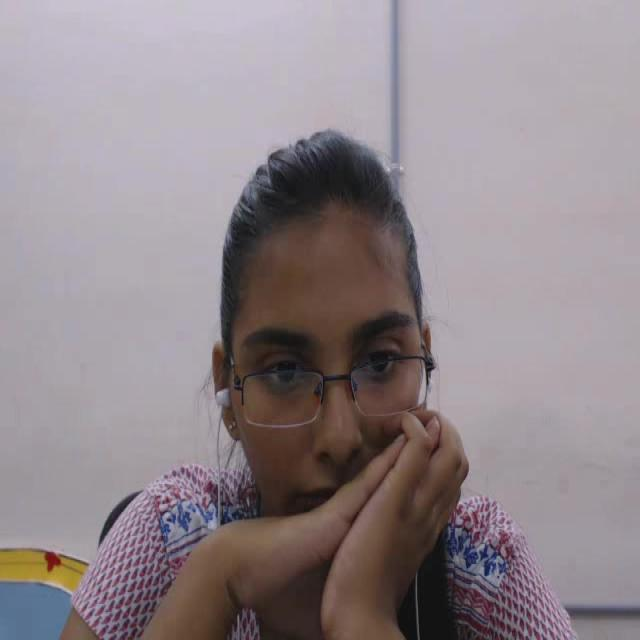Bored: (169, 100, 486, 570)
